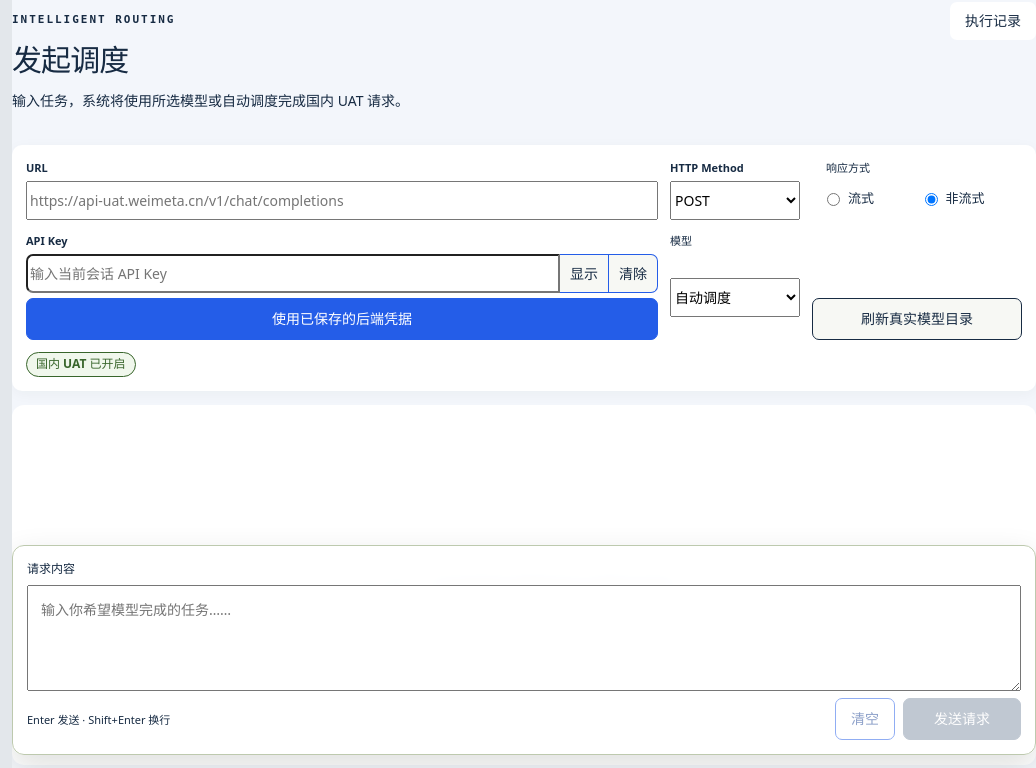
Test: agent-style UAT request page › explicitly reuses an encrypted backend credential without exposing it to the page
Click the button "使用已保存的后端凭据" at (342, 319), box left=26, top=298, right=658, bottom=340
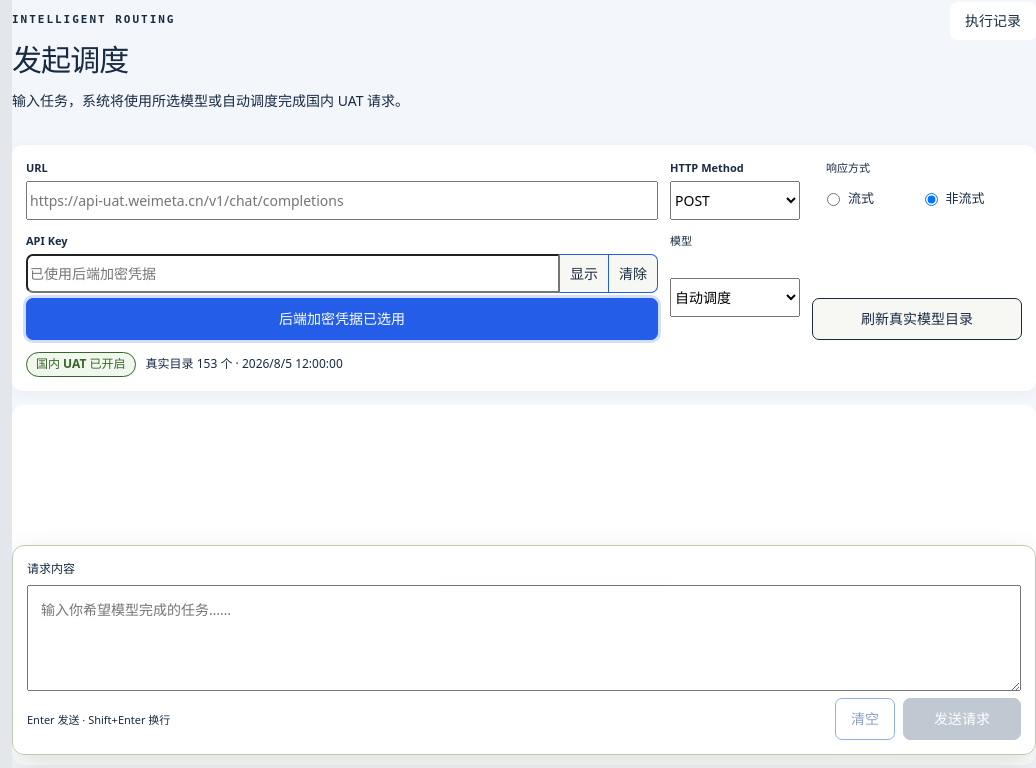
Expected: the password field labelled "API Key" is empty, left=26, top=254, right=560, bottom=294
Now the text "真实目录 153 个 · 2026/8/5 12:00:00" is shown, box left=146, top=355, right=343, bottom=374
